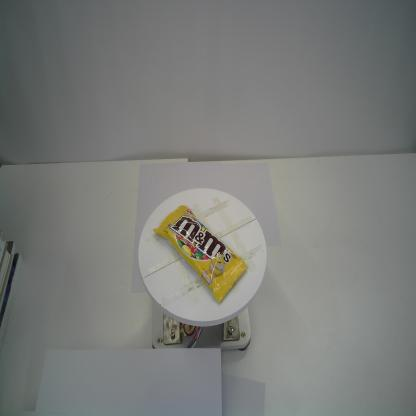Chocolate: (152, 204, 249, 304)
